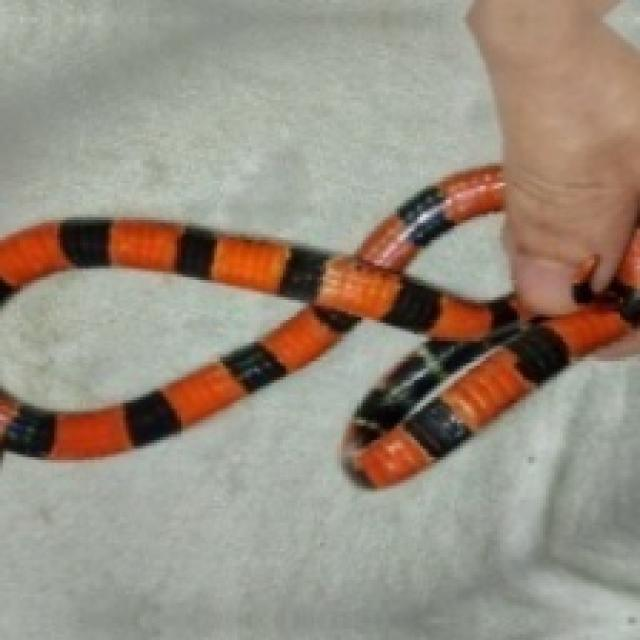barredcoral snake: (0, 166, 637, 486)
